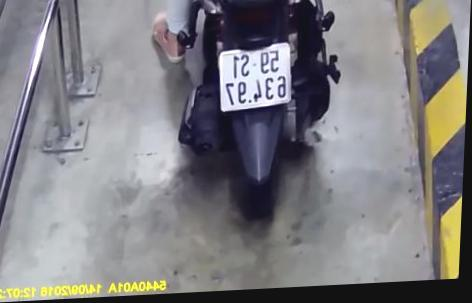License_Plate: (211, 38, 303, 121)
